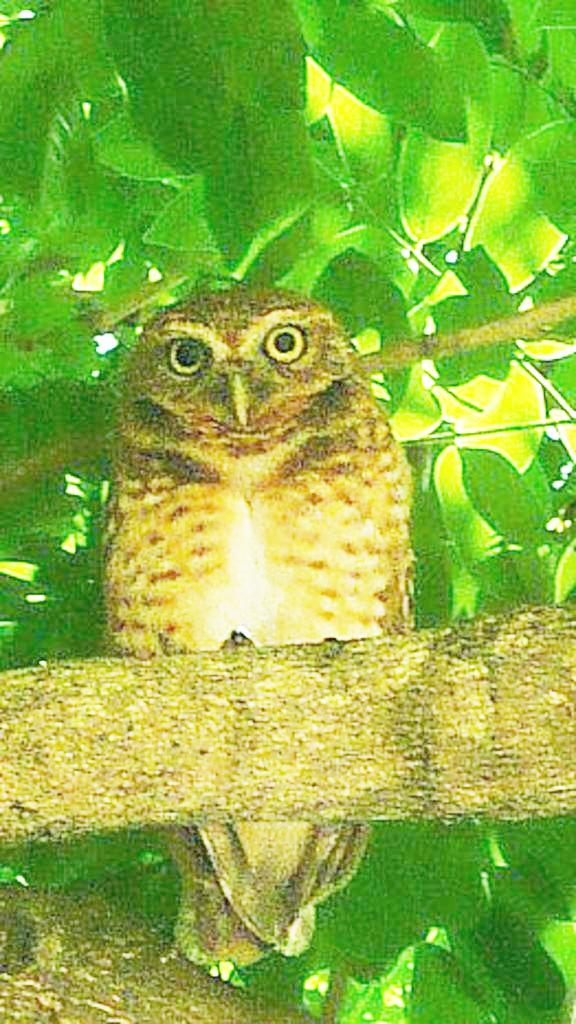Owl: (92, 282, 422, 976)
